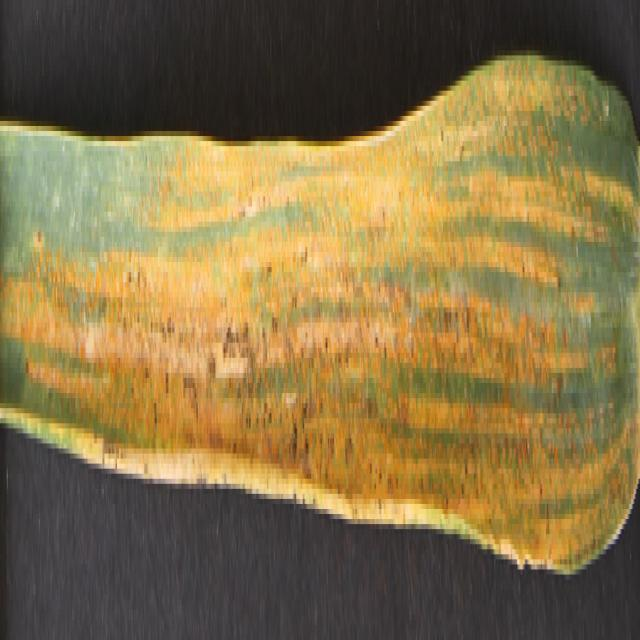leaf rust: (0, 90, 640, 554)
